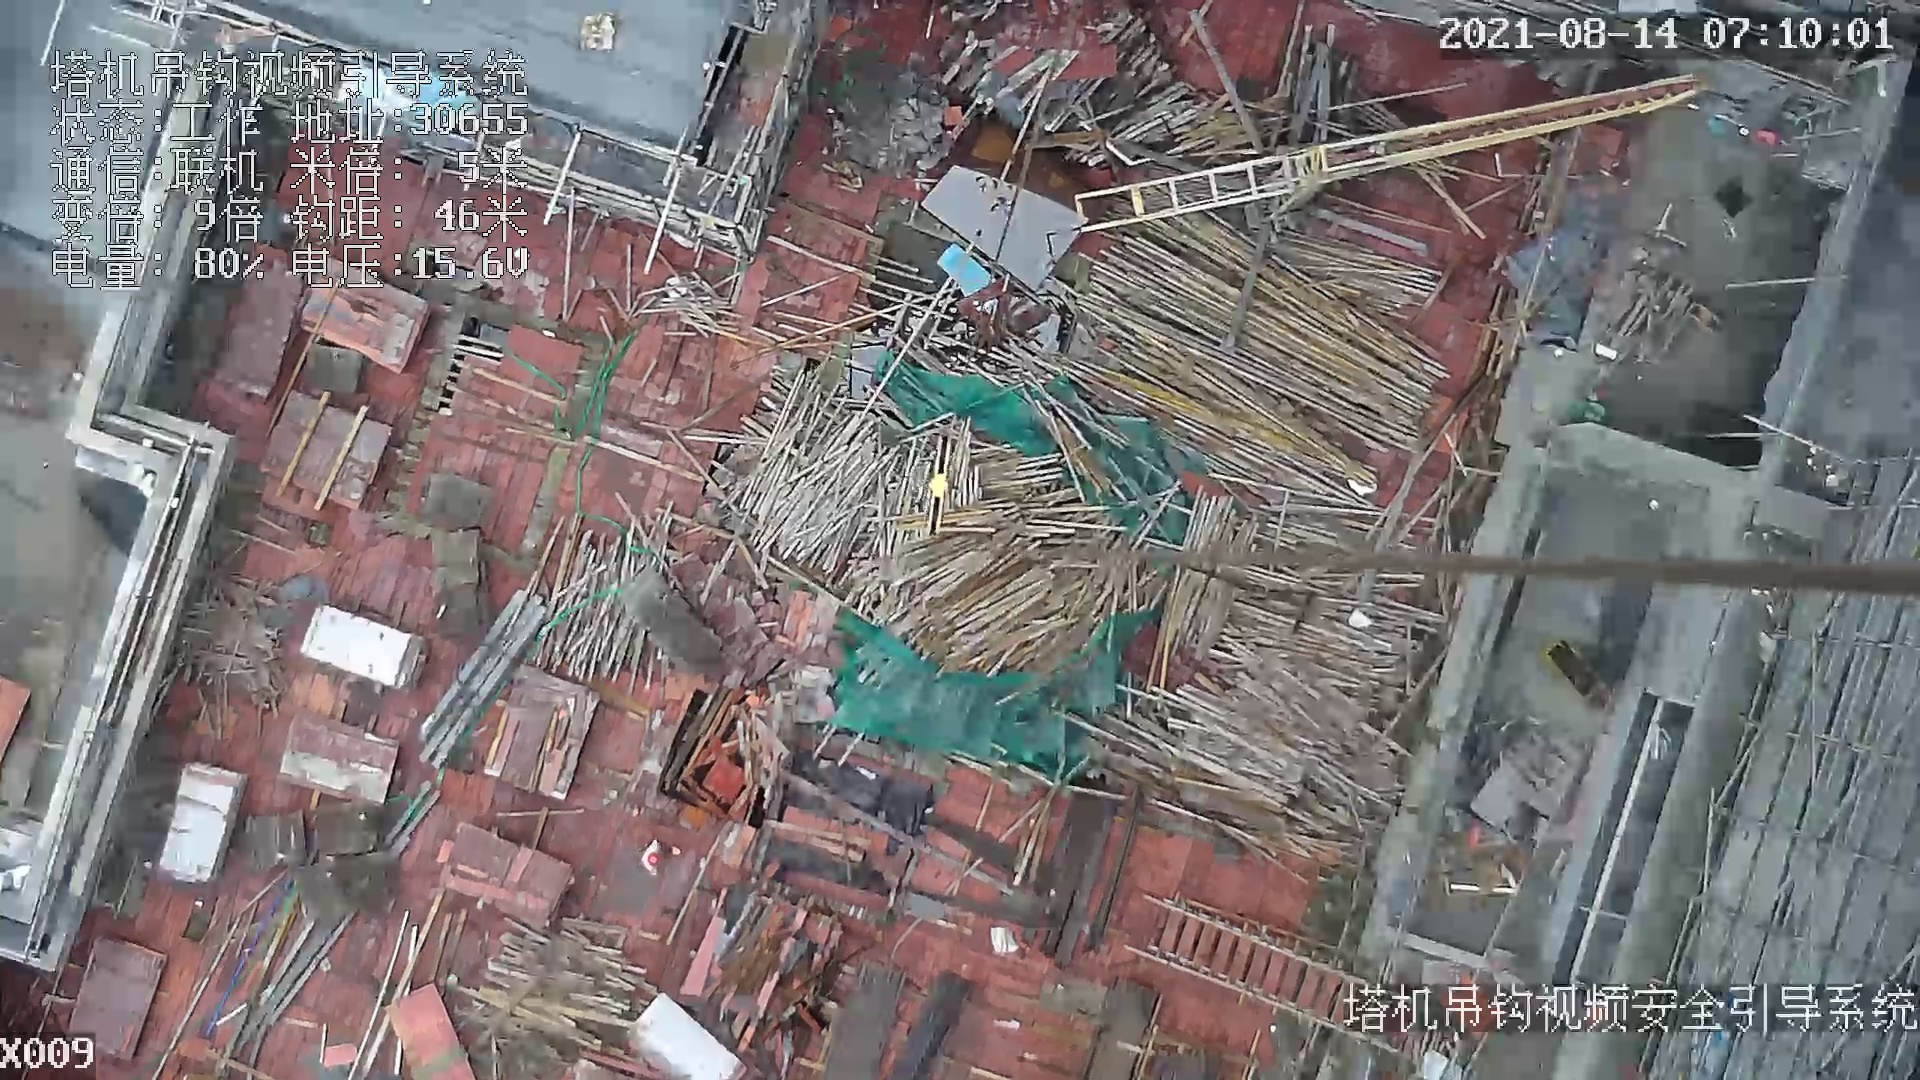helmet: (648, 853, 659, 866)
hook: (915, 430, 959, 532)
person: (633, 832, 678, 873)
